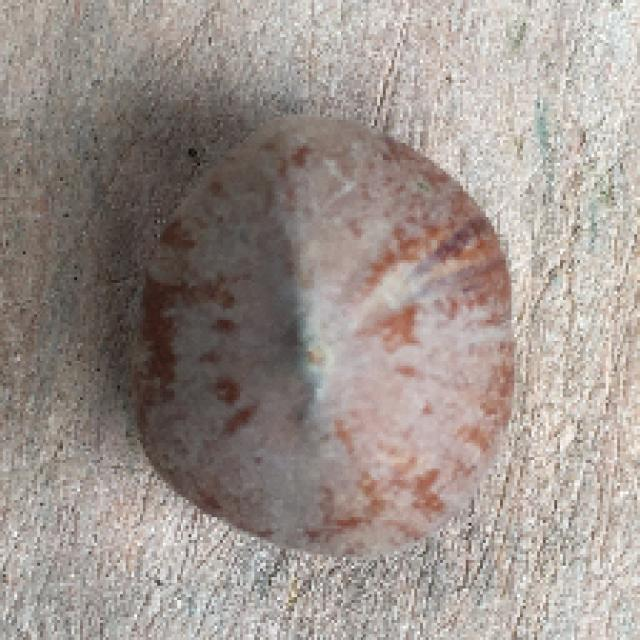qualityHazelnut: (104, 106, 534, 568)
